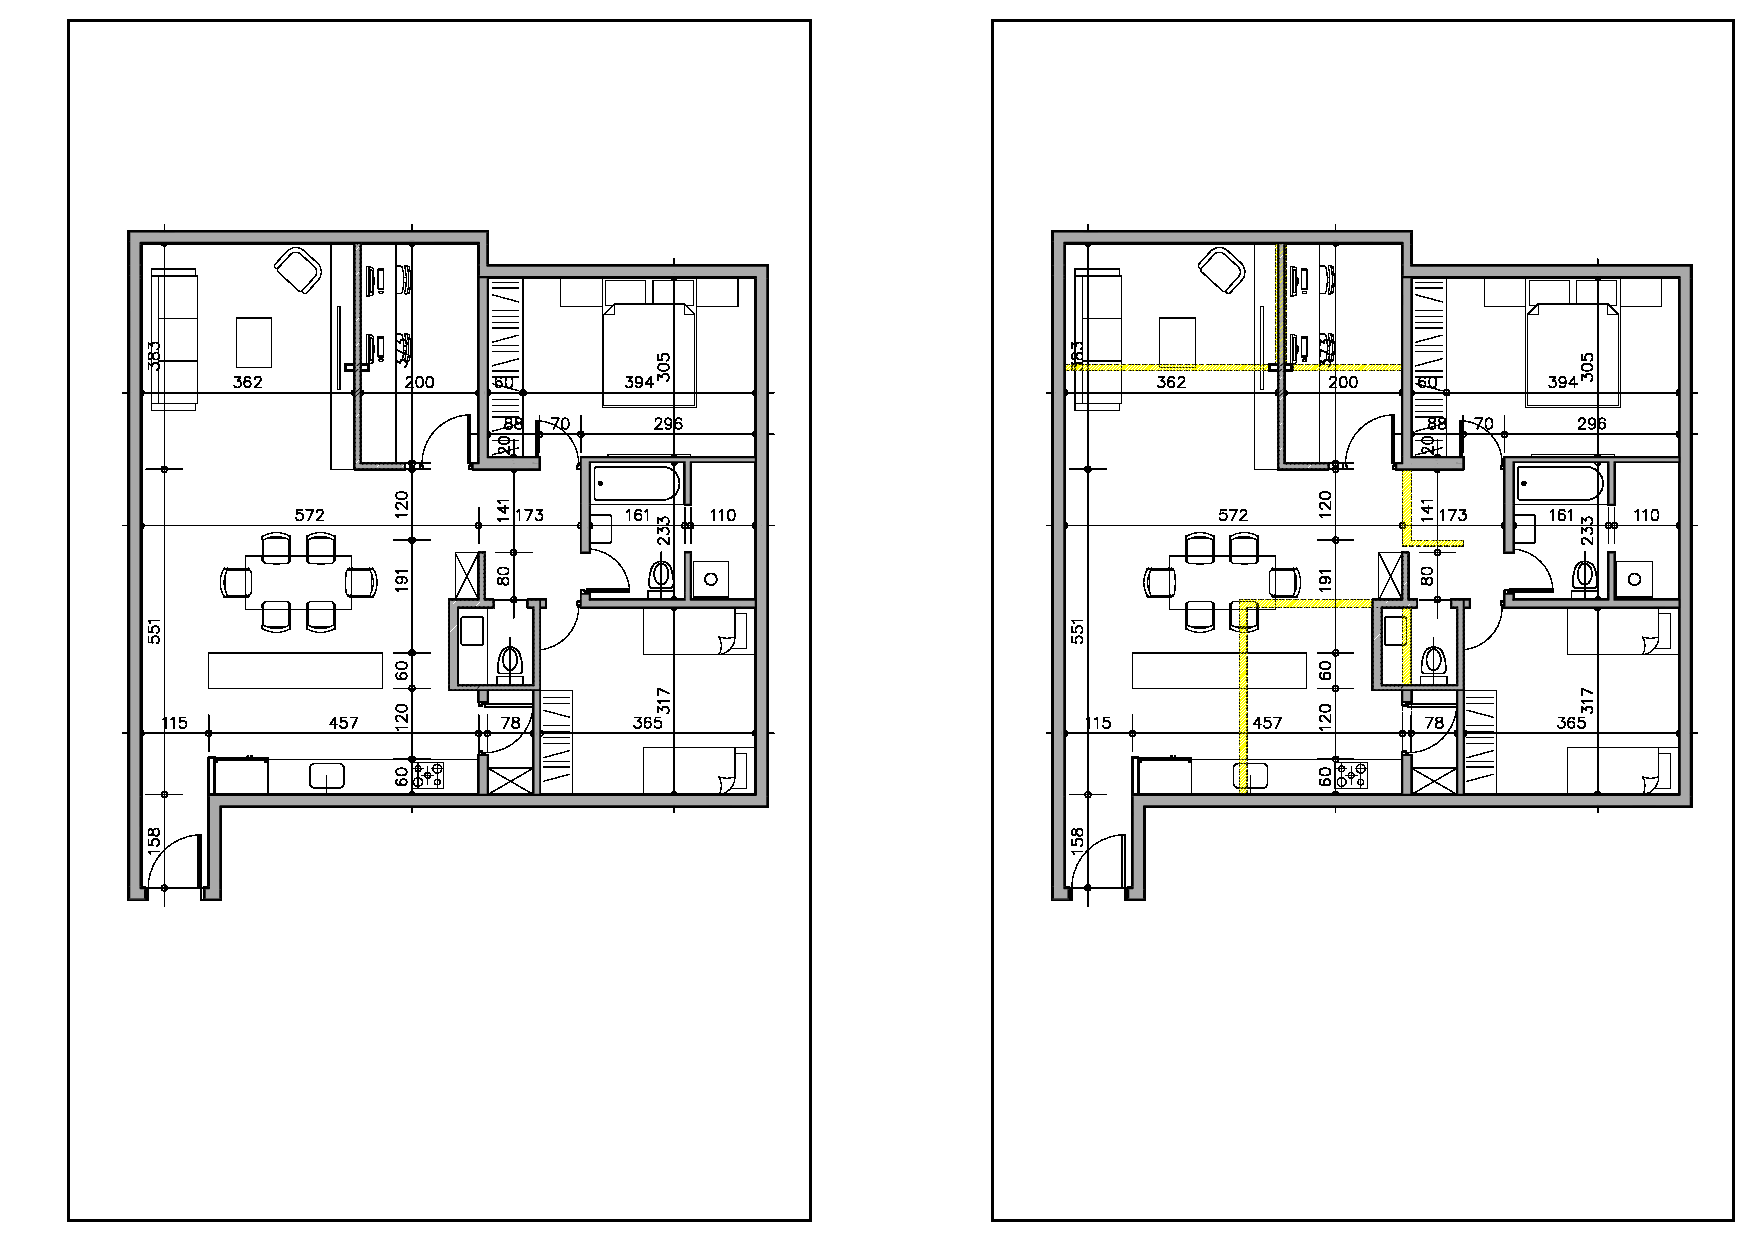door: (1342, 409, 1397, 458), (420, 415, 472, 459), (590, 541, 632, 596), (1464, 607, 1510, 656), (1518, 548, 1559, 599), (545, 607, 582, 650)
